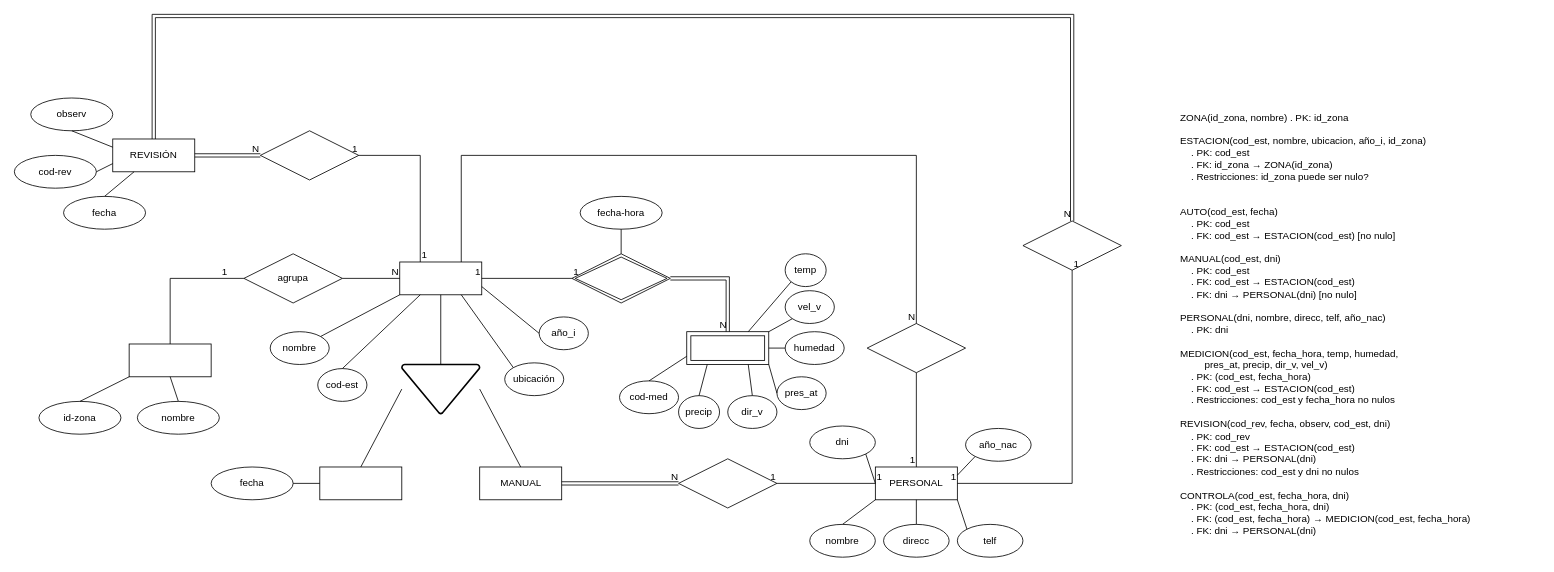
This 1554x572 diagram has some shape labels left out. The shapes that lost their labels are listed below. From the top down, each one's centre as x and y in pixels, then its label:
At (309,155): "es de".
At (1071,245): "realiza".
At (440,278): "ESTACIÓN".
At (620,278): "tiene".
At (169,360): "ZONA".
At (727,347): "MEDICIÓN".
At (916,348): "controla".
At (440,388): "(T.D.)".
At (360,483): "AUTO".
At (727,483): "es responsable".
